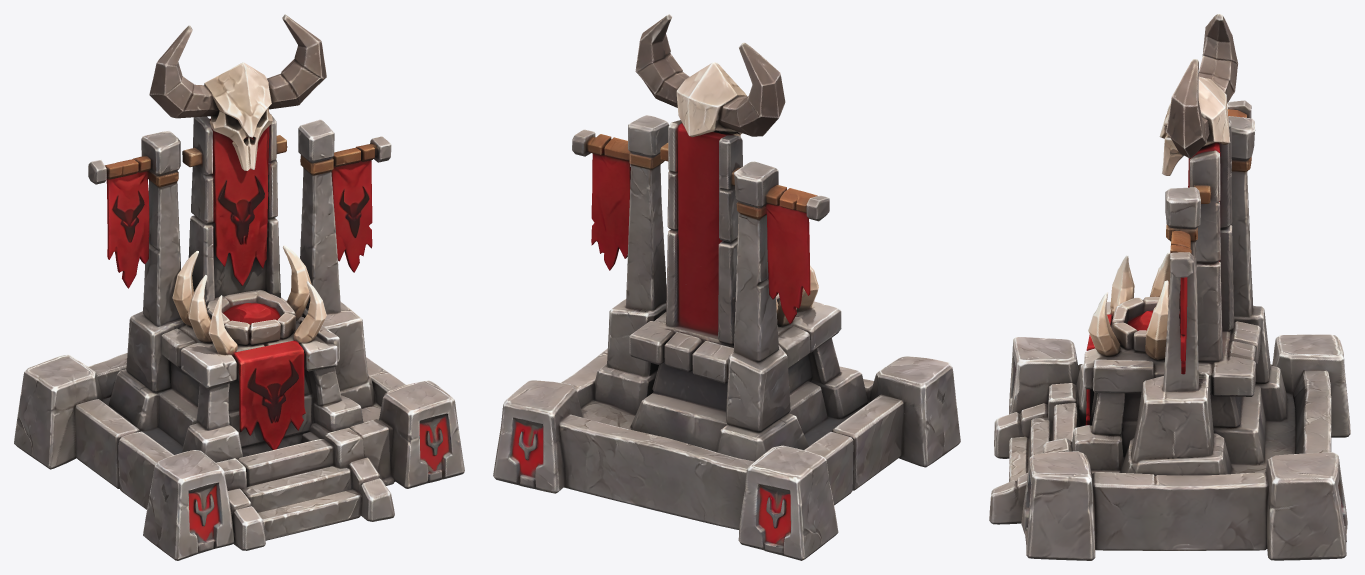
The model's file is shrine.glb.
The picture shows the model from 3 angles, left to right: view 1: azimuth 30°, elevation 25°; view 2: azimuth 150°, elevation 25°; view 3: azimuth 270°, elevation 25°; orthographic projection. The views are drawn at different scales.
Parts seen in each view (by area): view 1: model; view 2: model; view 3: model.
Boxes of the visible parts, x1,y1,x2,y2 form: model: (14,14,464,560); model: (493,14,960,560); model: (989,14,1350,560).
Bounding box in the file's own units: 1.39 × 1.9 × 1.34.
Materials: 1 (1 with a texture image).
